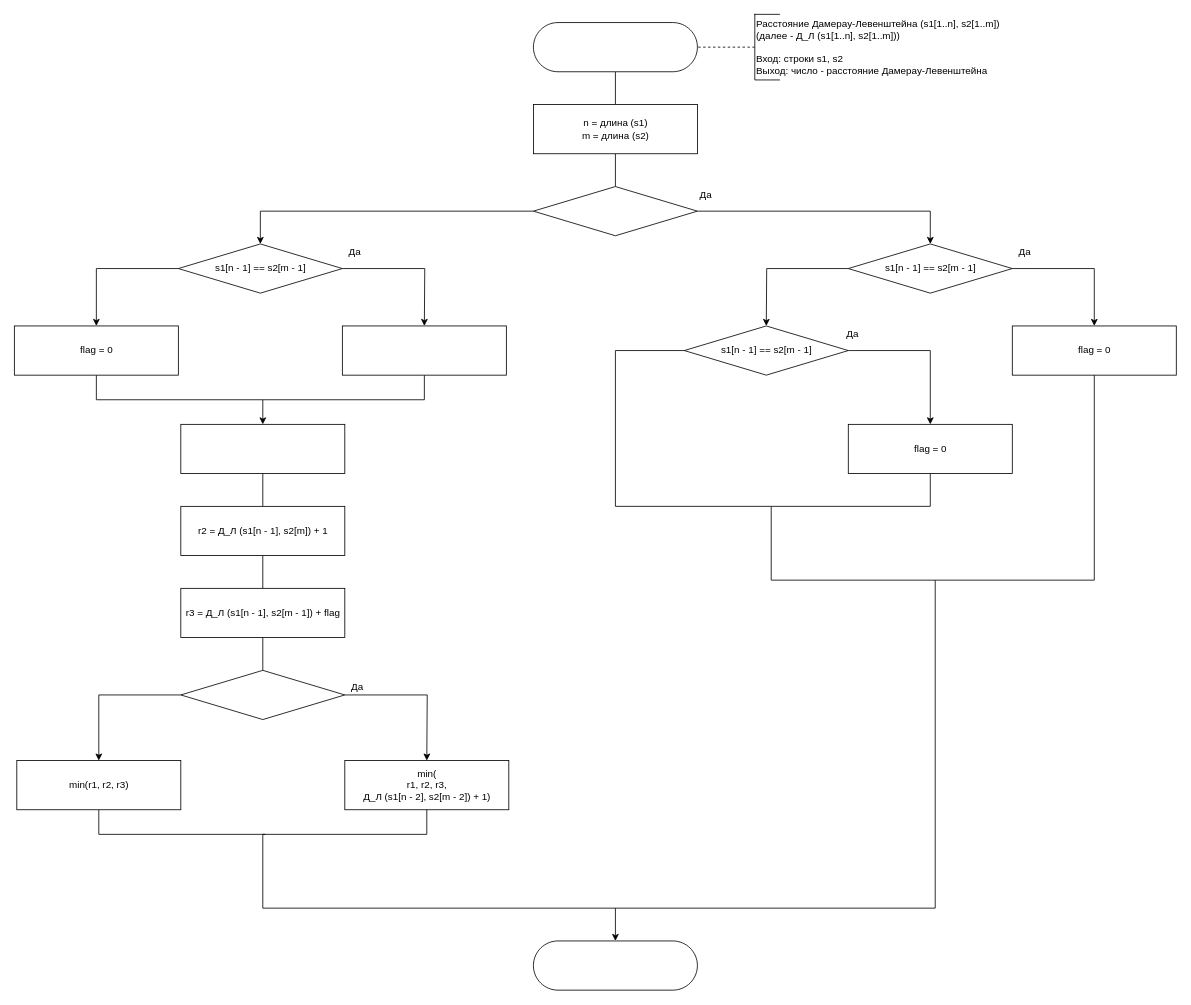
This 1191x1005 diagram has some shape labels left out. Each missing label, with the box of its shape:
flag = 1: (342, 325, 506, 375)
n == 0 или m == 0: (533, 186, 697, 236)
r1 = Д_Л (s1[n], s2[m - 1]) + 1: (180, 424, 345, 474)
s1[n - 1] == s2[m - 2] и s1[n - 2] == s2[m - 1]: (180, 670, 345, 720)
Конец: (533, 940, 697, 990)
Начало: (533, 22, 697, 72)
